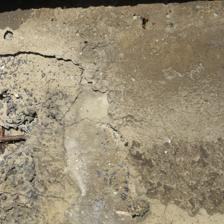Crack: (25, 28, 69, 102), (73, 51, 111, 81)
